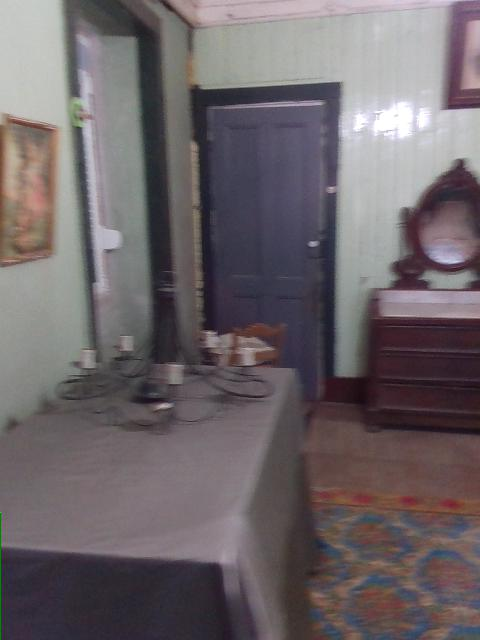door: (188, 82, 337, 403)
